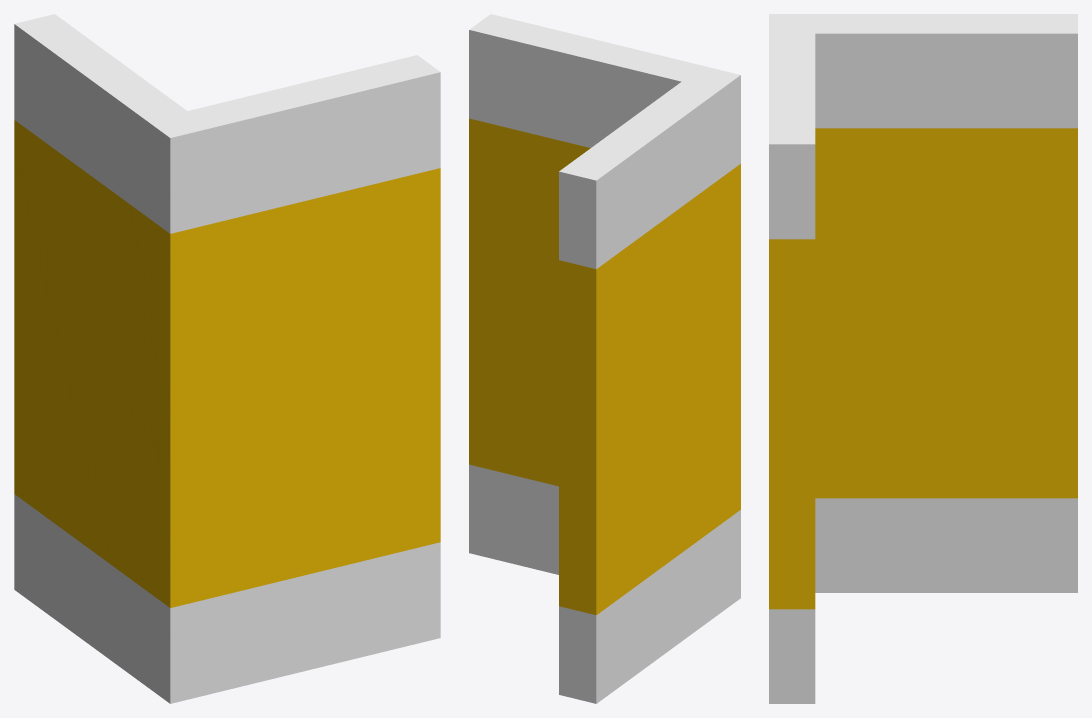
Rendered from TwoColouredCorner.glb.
3 renders of one model, left to right at view 1: azimuth 30°, elevation 25°; view 2: azimuth 150°, elevation 25°; view 3: azimuth 270°, elevation 25°, orthographic. The views are drawn at different scales.
Visible parts, largest first — view 1: wall_twoCol_corner; view 2: wall_twoCol_corner; view 3: wall_twoCol_corner.
Boxes of the visible parts, x1=… form: wall_twoCol_corner: x1=14, y1=14, x2=440, y2=703; wall_twoCol_corner: x1=469, y1=14, x2=740, y2=703; wall_twoCol_corner: x1=769, y1=14, x2=1077, y2=703.
Size of what is drawn, in the model's own units: 2 by 4 by 2.
1 material, 1 textured.
